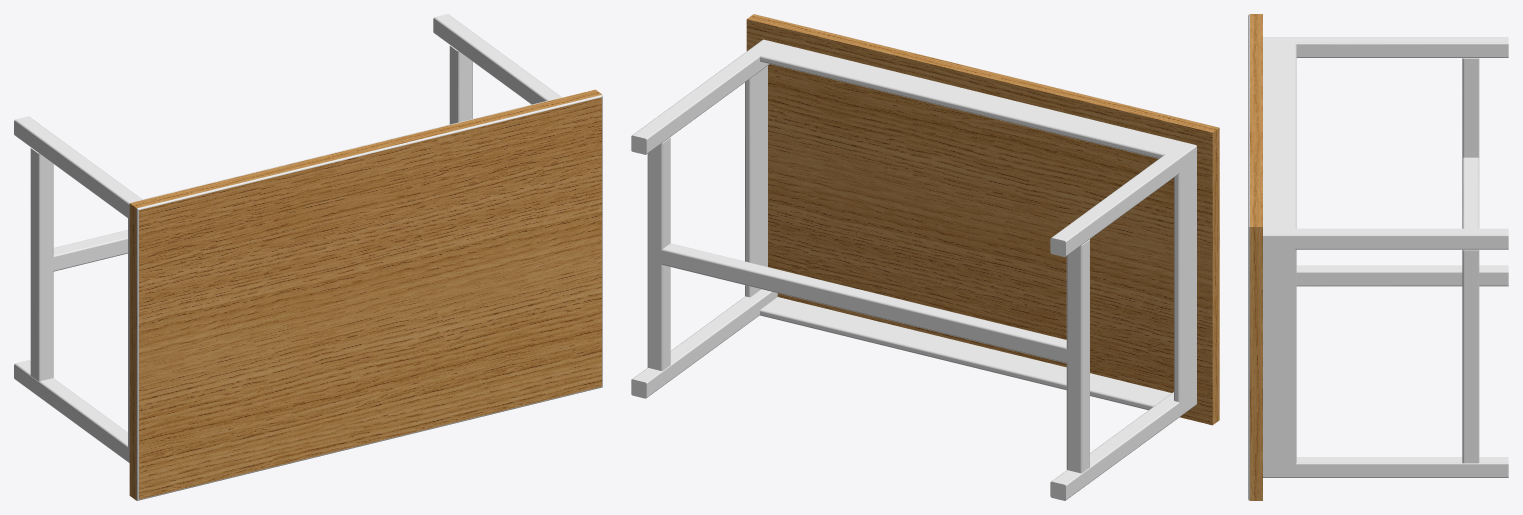
Rendered from table.gltf.
3 renders of one model, left to right at view 1: azimuth 30°, elevation 25°; view 2: azimuth 150°, elevation 25°; view 3: azimuth 270°, elevation 25°, orthographic. The views are drawn at different scales.
Visible parts, largest first — view 1: Node1; view 2: Node1; view 3: Node1.
Boxes of the visible parts, <box> form: Node1: <box>14,14,602,500</box>; Node1: <box>631,14,1219,500</box>; Node1: <box>1248,14,1508,500</box>.
Size of the model in its own units: 1524 by 914 by 787.
7 materials, 1 textured.
